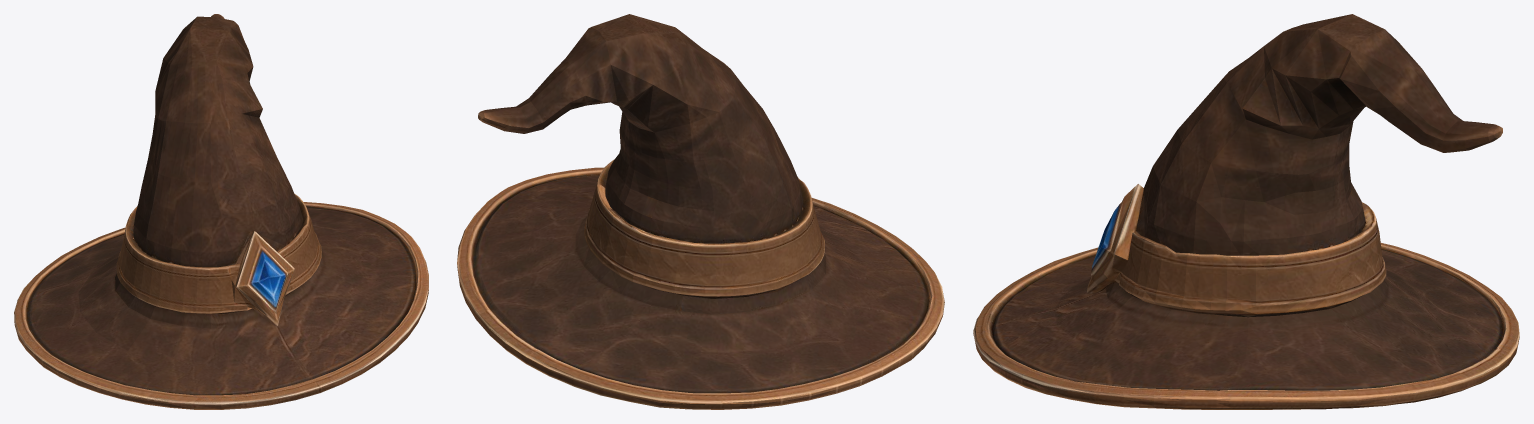
File: LeatherMageHat.glb
The picture shows the model from 3 angles, left to right: view 1: azimuth 30°, elevation 25°; view 2: azimuth 150°, elevation 25°; view 3: azimuth 270°, elevation 25°; orthographic projection. The views are drawn at different scales.
Bounding box in the file's own units: 1.89 × 1.33 × 1.91.
Materials: 1 (1 with a texture image).
